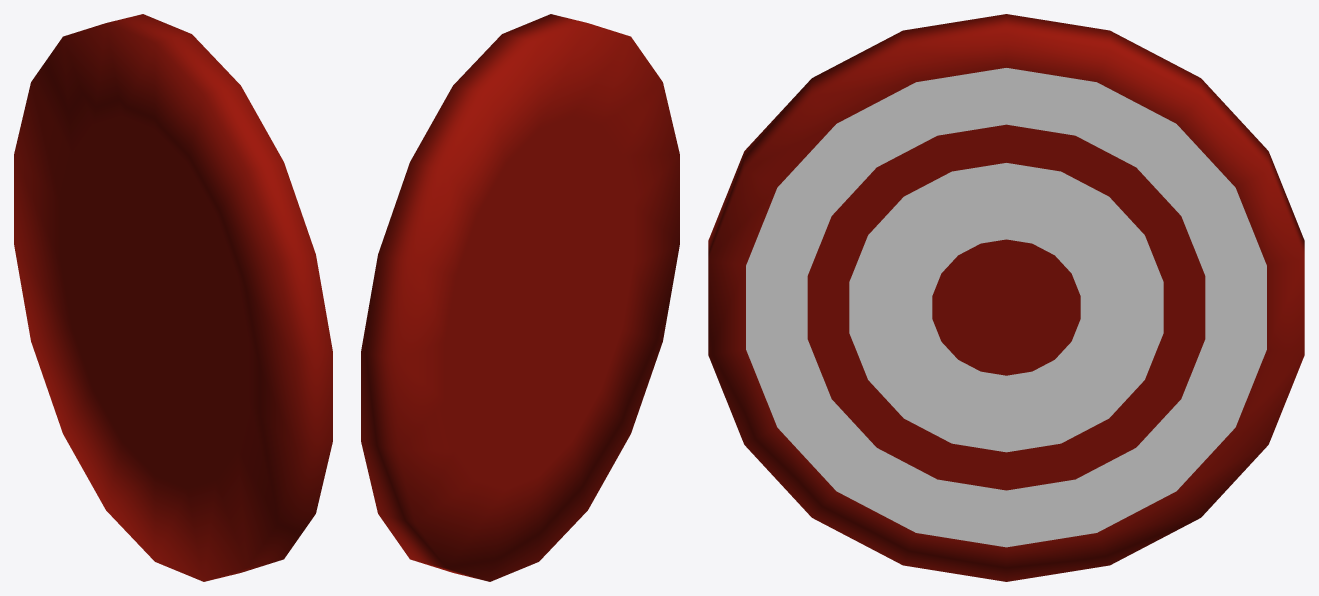
File: TargetObject.fbx
3 views of the same model, side by side, from view 1: azimuth 30°, elevation 25°; view 2: azimuth 150°, elevation 25°; view 3: azimuth 270°, elevation 25° (orthographic). The views are drawn at different scales.
Visible parts, largest first — view 1: Cylinder046; view 2: Cylinder046; view 3: Cylinder046.
Boxes of the visible parts, x1,y1,x2,y2 form: Cylinder046: (14,14,332,581); Cylinder046: (361,14,679,581); Cylinder046: (708,14,1304,581).
Size of the model in its own units: 15 by 197 by 200.
